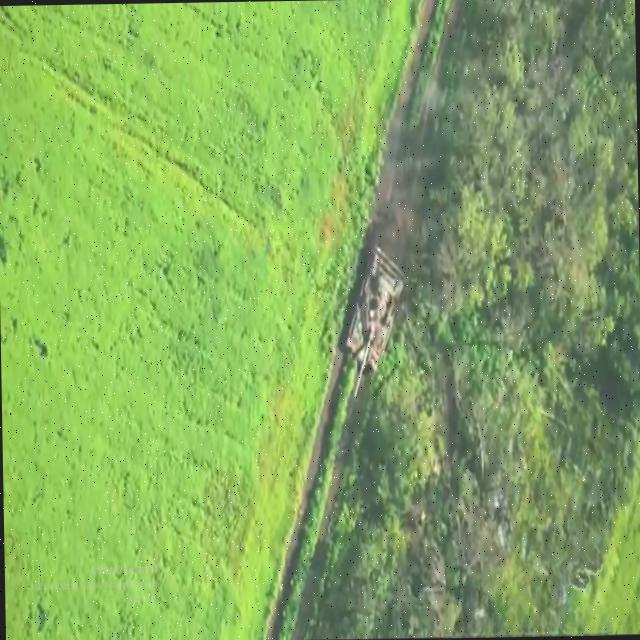MBT: (340, 243, 409, 400)
